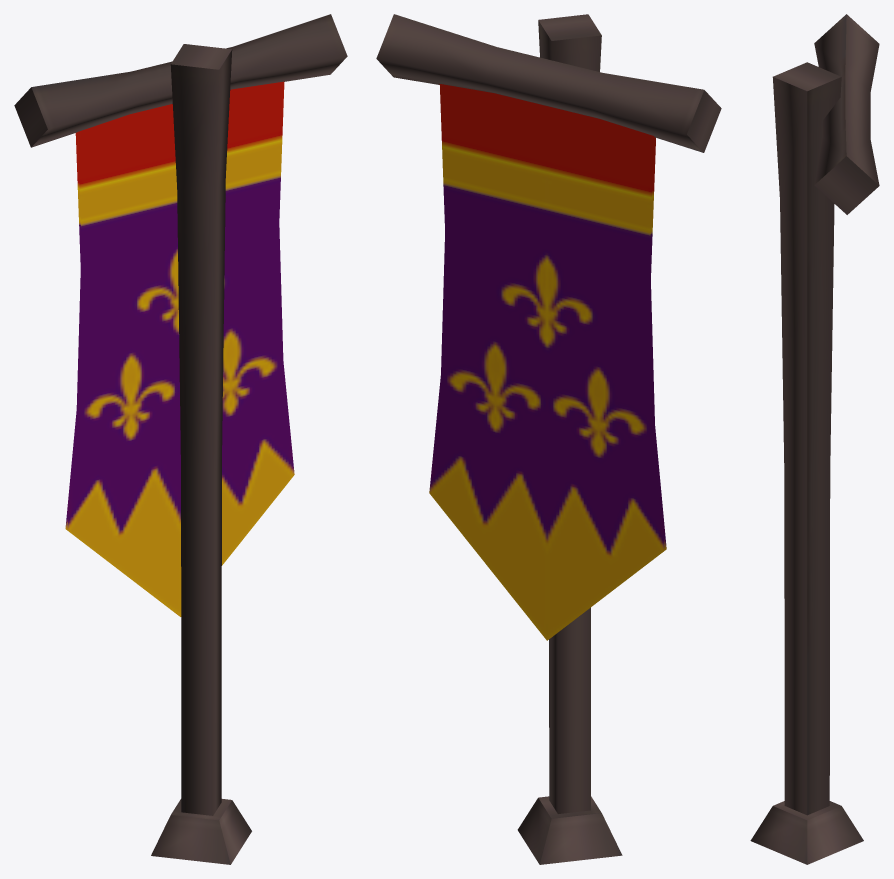
File: HOS0910011.fbx
The picture shows the model from 3 angles, left to right: view 1: azimuth 30°, elevation 25°; view 2: azimuth 150°, elevation 25°; view 3: azimuth 270°, elevation 25°; orthographic projection. The views are drawn at different scales.
Parts seen in each view (by area): view 1: smHOS0910011; view 2: smHOS0910011; view 3: smHOS0910011.
Part boxes in pixels (x1=…): smHOS0910011: x1=14, y1=14, x2=347, y2=864; smHOS0910011: x1=376, y1=14, x2=721, y2=864; smHOS0910011: x1=750, y1=14, x2=879, y2=864.
Bounding box in the file's own units: 123 × 307 × 47.08.
Materials: 1 (1 with a texture image).
